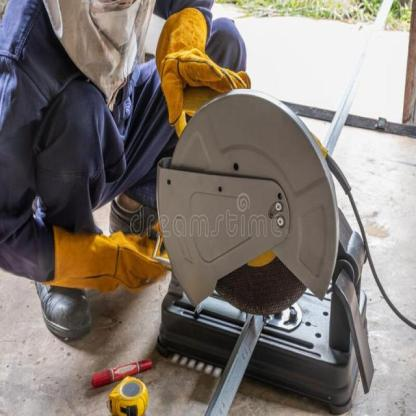bota: (32, 280, 96, 342)
